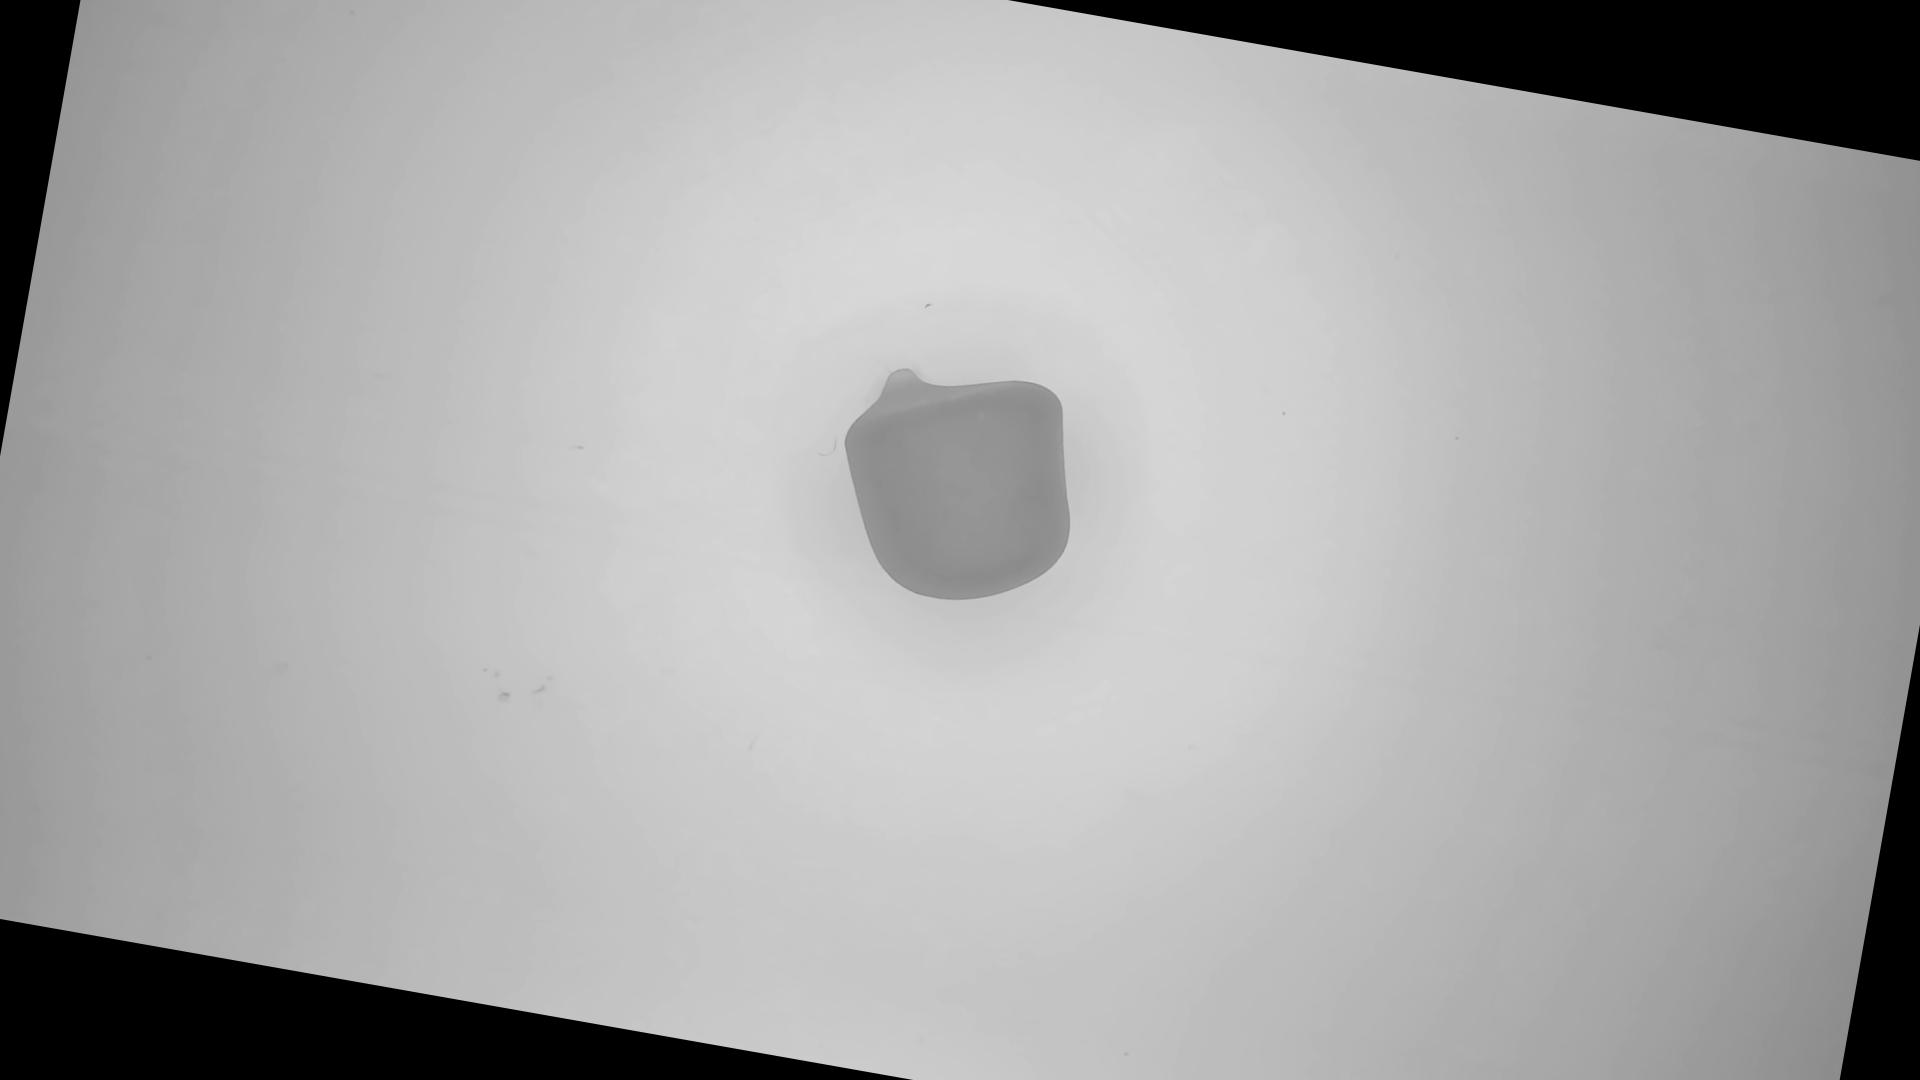abnormal: (818, 347, 1101, 625)
